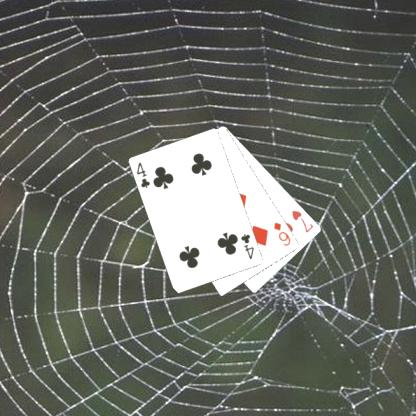4C: (134, 159, 152, 190), (238, 231, 256, 261)
6D: (271, 219, 292, 247)
7H: (289, 207, 315, 234)
